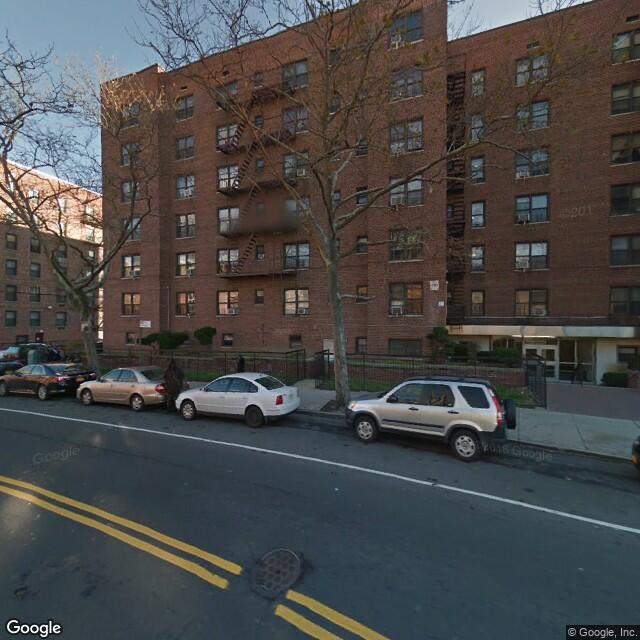litter: (334, 484, 338, 488)
